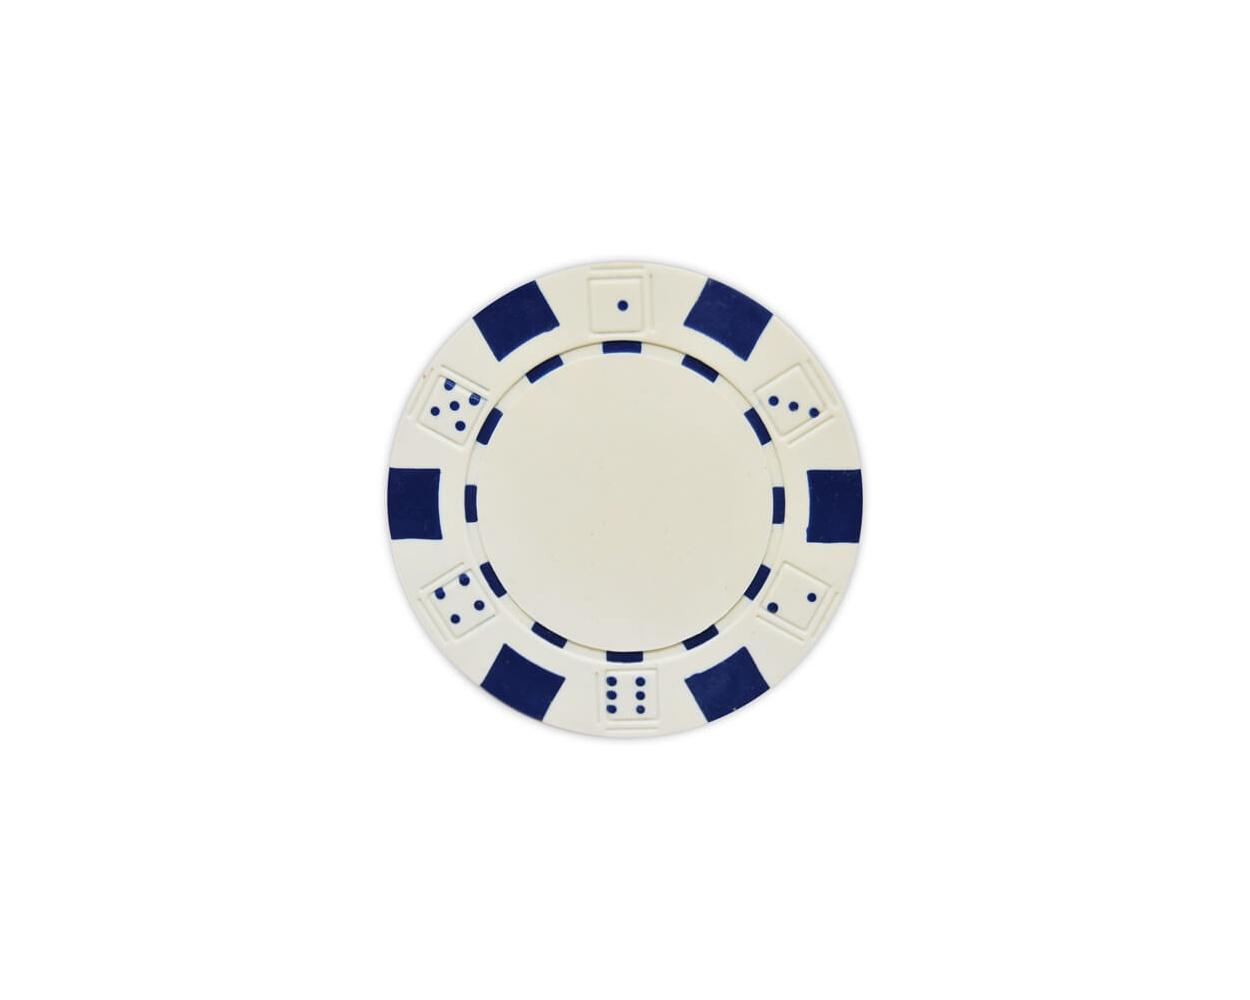chip-white: (386, 261, 864, 740)
